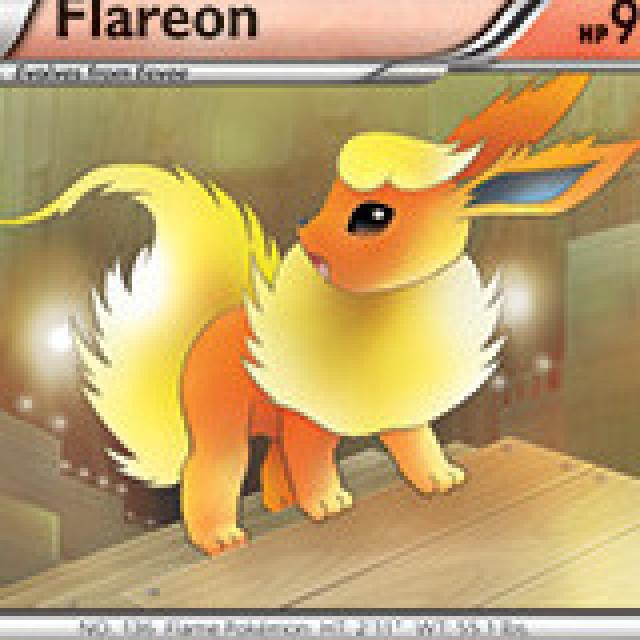Flareon: (48, 68, 624, 562)
